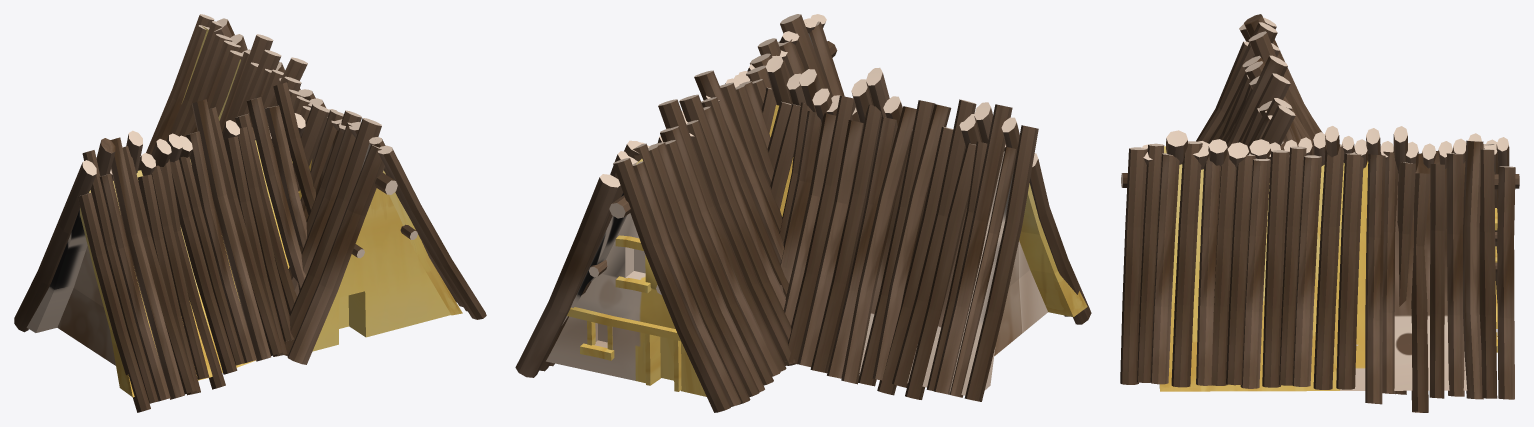
The model's file is house_1.1.fbx.
The picture shows the model from 3 angles, left to right: view 1: azimuth 30°, elevation 25°; view 2: azimuth 150°, elevation 25°; view 3: azimuth 270°, elevation 25°; orthographic projection. The views are drawn at different scales.
Parts seen in each view (by area): view 1: house_1.1; view 2: house_1.1; view 3: house_1.1.
Part boxes in pixels (x1,y1,x2,y2): house_1.1: [14, 14, 486, 412]; house_1.1: [515, 14, 1091, 412]; house_1.1: [1120, 14, 1519, 412].
Size of the model in its own units: 2031 by 1355 by 1908.
